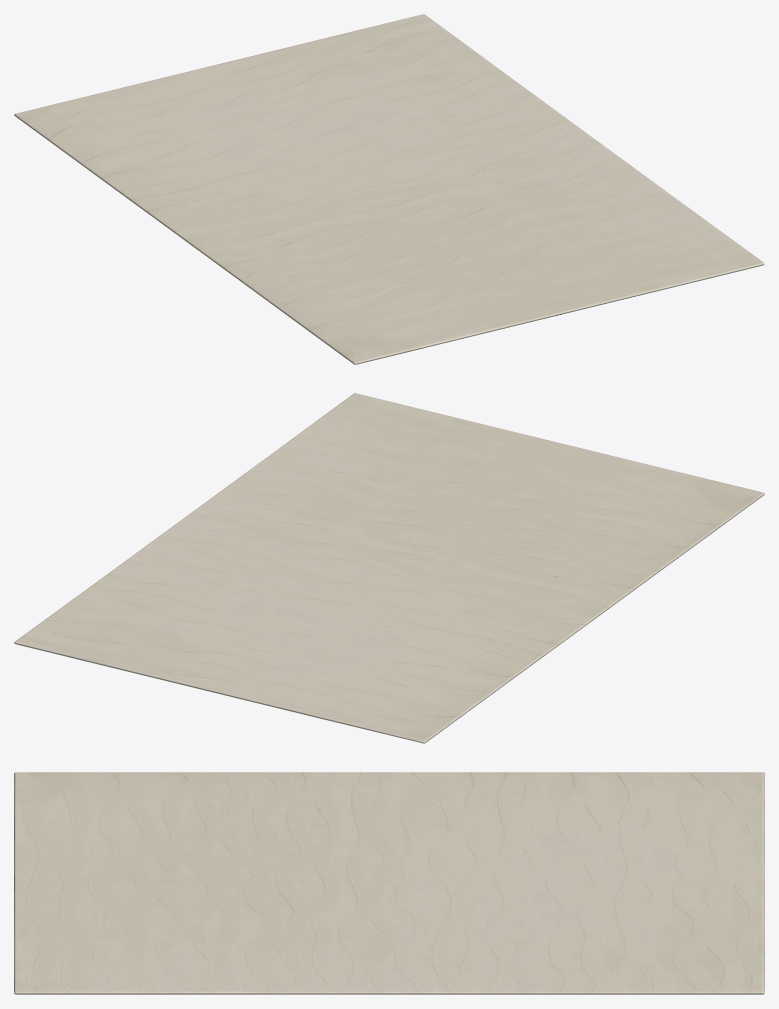
The model's file is 29 - VÄXELFEL Rug, low pile - off-white 160x230 cm.glb.
3 views of the same model, one above another, from view 1: azimuth 30°, elevation 25°; view 2: azimuth 150°, elevation 25°; view 3: azimuth 270°, elevation 25° (orthographic). The views are drawn at different scales.
Parts seen in each view (by area): view 1: Rectangle002; view 2: Rectangle002; view 3: Rectangle002.
Boxes of the visible parts, x1,y1,x2,y2 form: Rectangle002: [14, 14, 764, 364]; Rectangle002: [14, 393, 764, 743]; Rectangle002: [14, 772, 764, 994].
Size of the model in its own units: 1.6 by 0.00786 by 2.3.
1 material, 1 textured.
